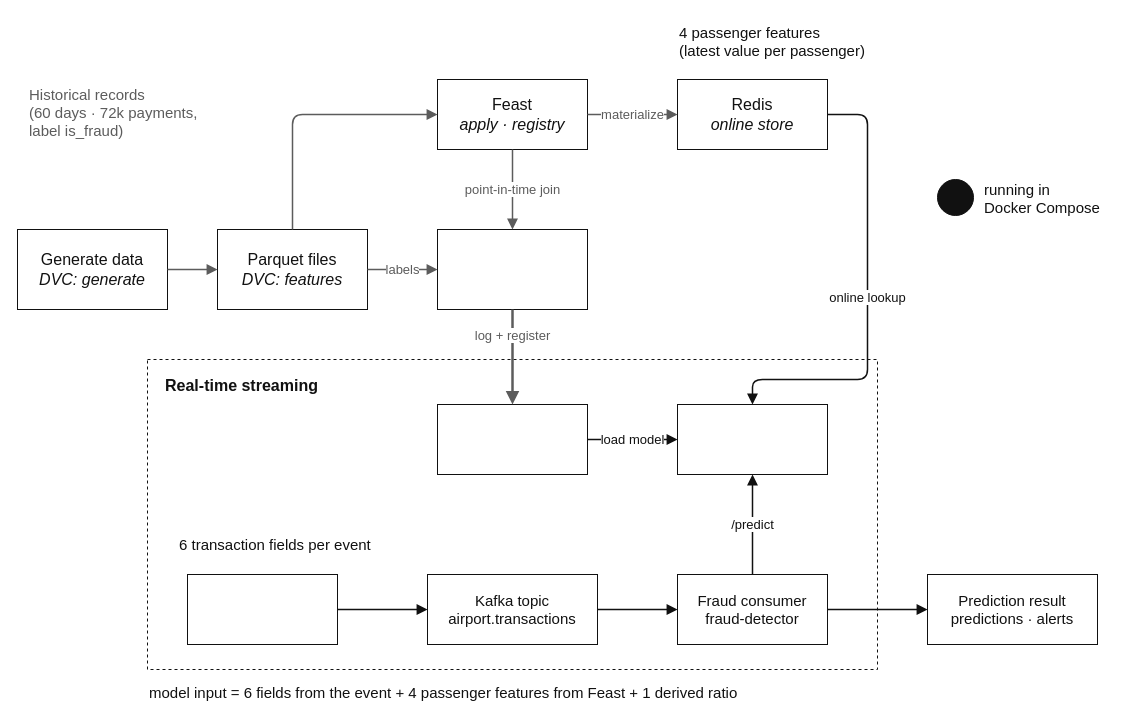
Image size: 1140x724. Some labels were removed from this diagram. Each missing label, with the centre of its shape:
MLflow @champion: the point at 512,439
Payment simulator: the point at 262,609
Scoring API /predict: the point at 752,439
Training 3 models: the point at 512,269
